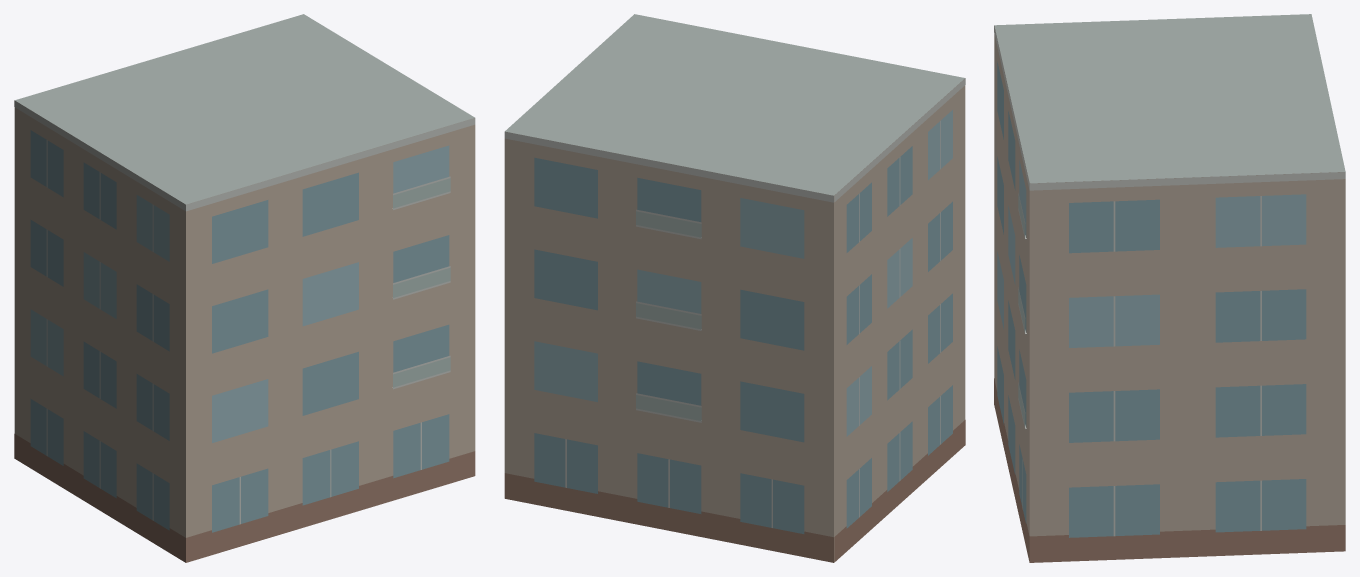
Rendered from survey-upis-32659355.glb.
The picture shows the model from 3 angles, left to right: view 1: azimuth 30°, elevation 25°; view 2: azimuth 150°, elevation 25°; view 3: azimuth 270°, elevation 25°; orthographic projection. The views are drawn at different scales.
Visible parts, largest first — view 1: survey-upis-32659355.tmp; view 2: survey-upis-32659355.tmp; view 3: survey-upis-32659355.tmp.
Boxes of the visible parts, box(x1,y1,x2,y2) form: survey-upis-32659355.tmp: box(14, 14, 475, 562); survey-upis-32659355.tmp: box(504, 14, 965, 562); survey-upis-32659355.tmp: box(994, 14, 1345, 562).
Size of the model in its own units: 12.26 by 12.8 by 10.75.
